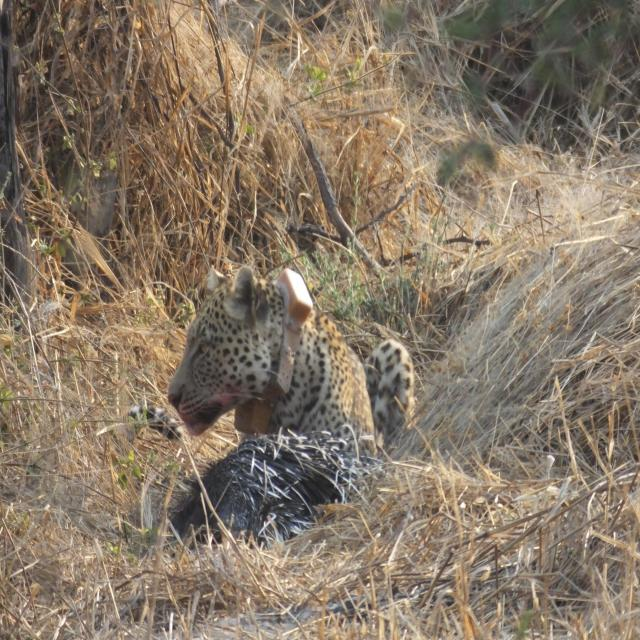Leopard: (144, 258, 418, 474)
